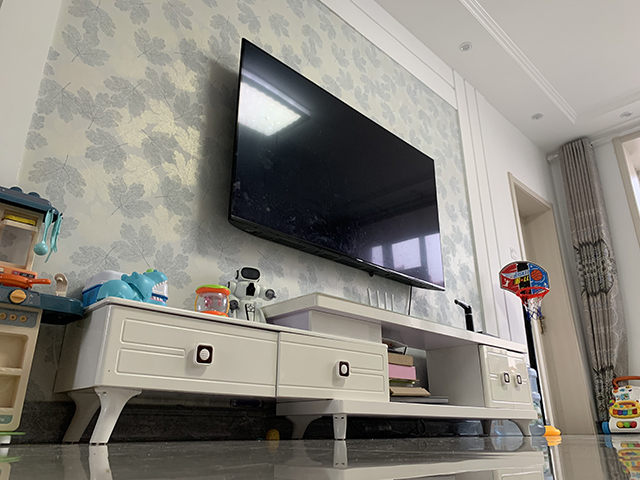cabinet: (52, 291, 539, 445)
curtain: (556, 135, 630, 425)
